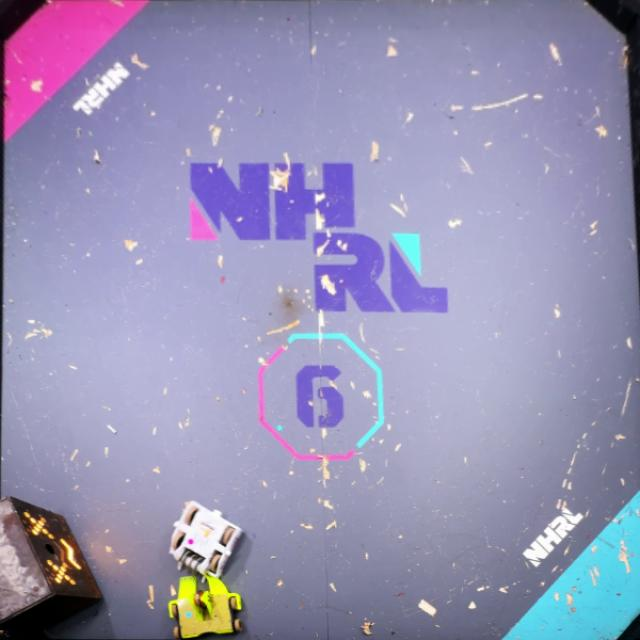housebot: (0, 495, 106, 640)
robot: (170, 501, 243, 581), (169, 575, 243, 639)
